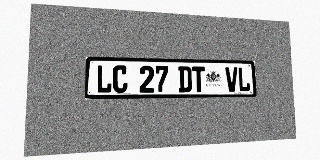2: (140, 66, 154, 93)
7: (154, 66, 169, 93)
C: (112, 65, 128, 93)
D: (178, 66, 192, 92)
L: (96, 65, 112, 93), (238, 67, 250, 92)
T: (192, 66, 205, 92)
V: (225, 67, 238, 92)
